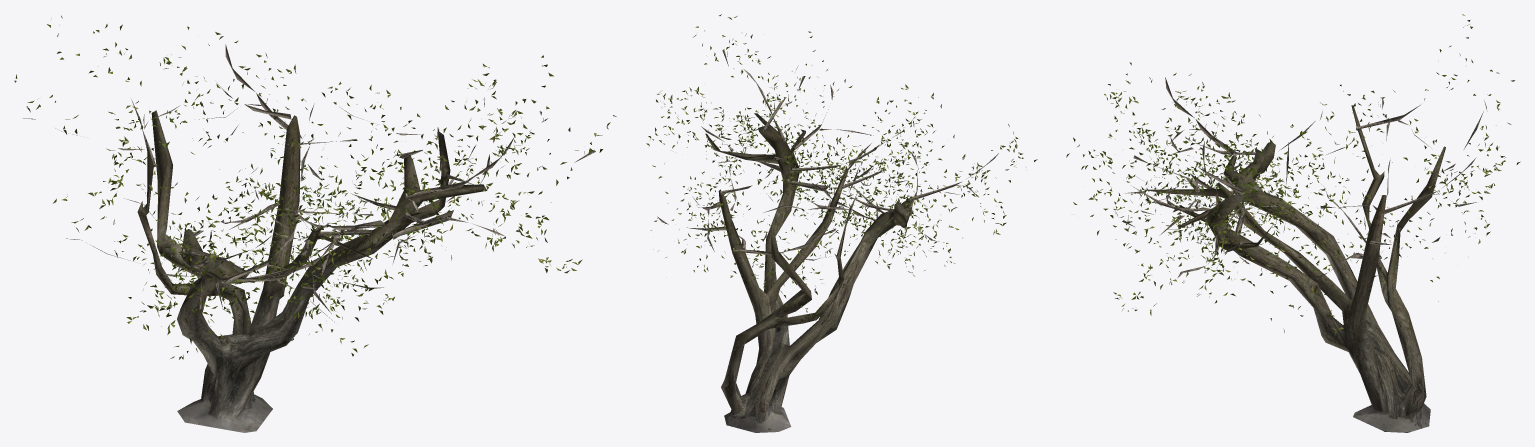
The model's file is big_tree.glb.
3 views of the same model, side by side, from view 1: azimuth 30°, elevation 25°; view 2: azimuth 150°, elevation 25°; view 3: azimuth 270°, elevation 25° (orthographic). The views are drawn at different scales.
Visible parts, largest first — view 1: island_tree_02_LOD0; view 2: island_tree_02_LOD0; view 3: island_tree_02_LOD0.
Part boxes in pixels (<box>): island_tree_02_LOD0: <box>14,15,616,432</box>; island_tree_02_LOD0: <box>646,14,1037,432</box>; island_tree_02_LOD0: <box>1066,14,1520,432</box>.
Size of the model in its own units: 3.78 by 3.38 by 4.03.
Materials: 3 (3 with a texture image).
